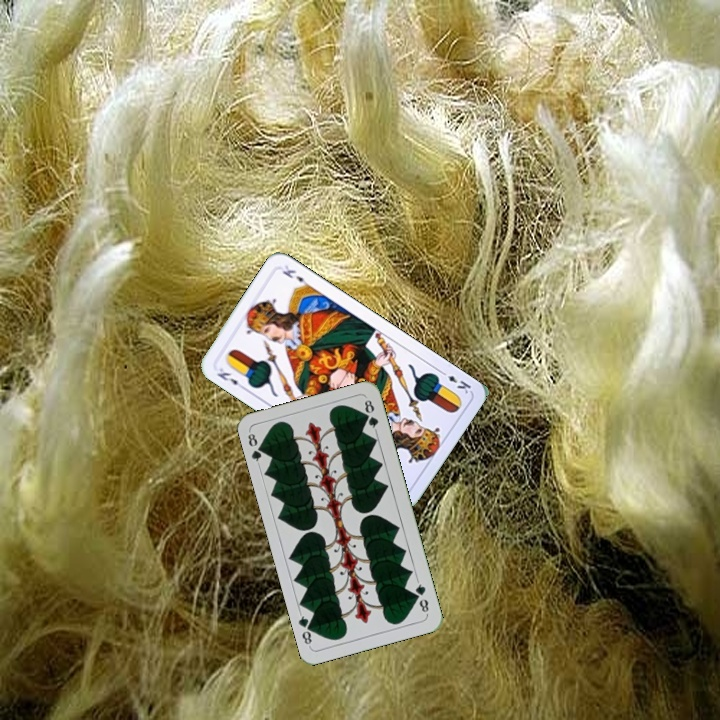EK: (436, 366, 473, 396), (213, 364, 248, 392)
G8: (243, 428, 267, 468), (411, 577, 431, 617)
